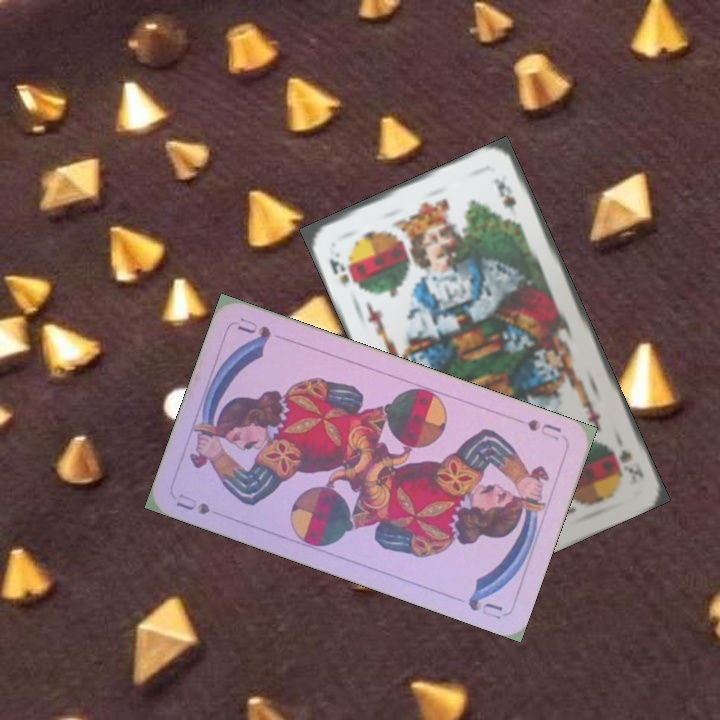SK: (615, 445, 647, 488), (325, 255, 352, 287)
SU: (523, 415, 564, 443), (172, 490, 212, 517)
